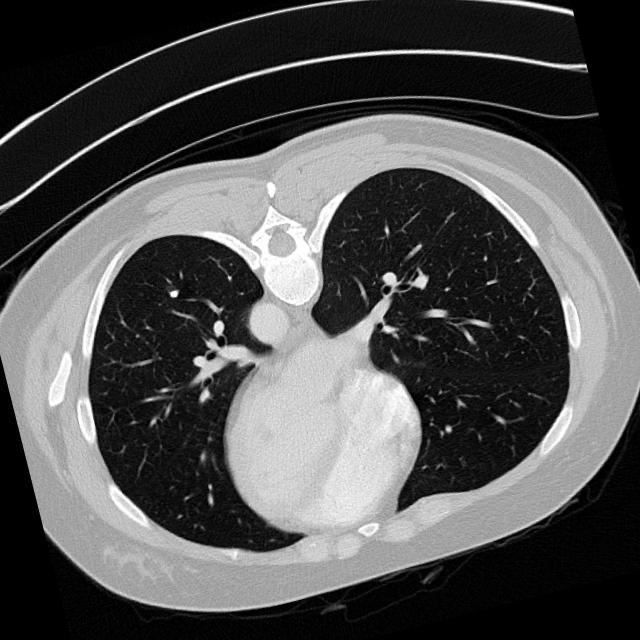nodule: (161, 280, 188, 307)
